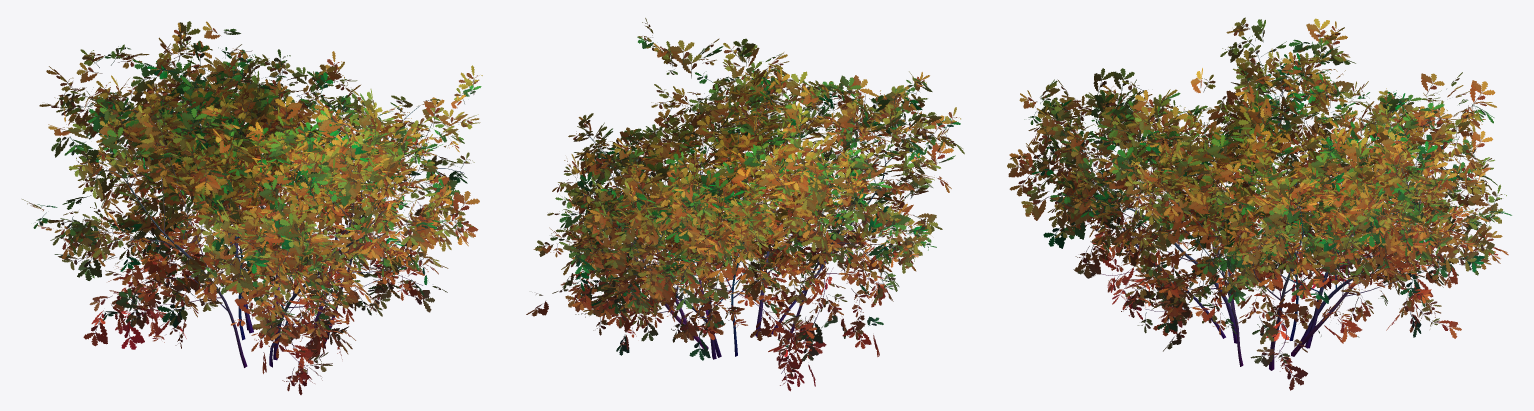
The model's file is asset.glb.
The picture shows the model from 3 angles, left to right: view 1: azimuth 30°, elevation 25°; view 2: azimuth 150°, elevation 25°; view 3: azimuth 270°, elevation 25°; orthographic projection. The views are drawn at different scales.
Parts seen in each view (by area): view 1: gambel_oak_LOD0; view 2: gambel_oak_LOD0; view 3: gambel_oak_LOD0.
Boxes of the visible parts, x1=… form: gambel_oak_LOD0: x1=22, y1=21, x2=482, y2=394; gambel_oak_LOD0: x1=526, y1=18, x2=964, y2=391; gambel_oak_LOD0: x1=1007, y1=17, x2=1511, y2=390.
Bounding box in the file's own units: 5.36 × 3.39 × 5.77.
Materials: 2 (2 with a texture image).
